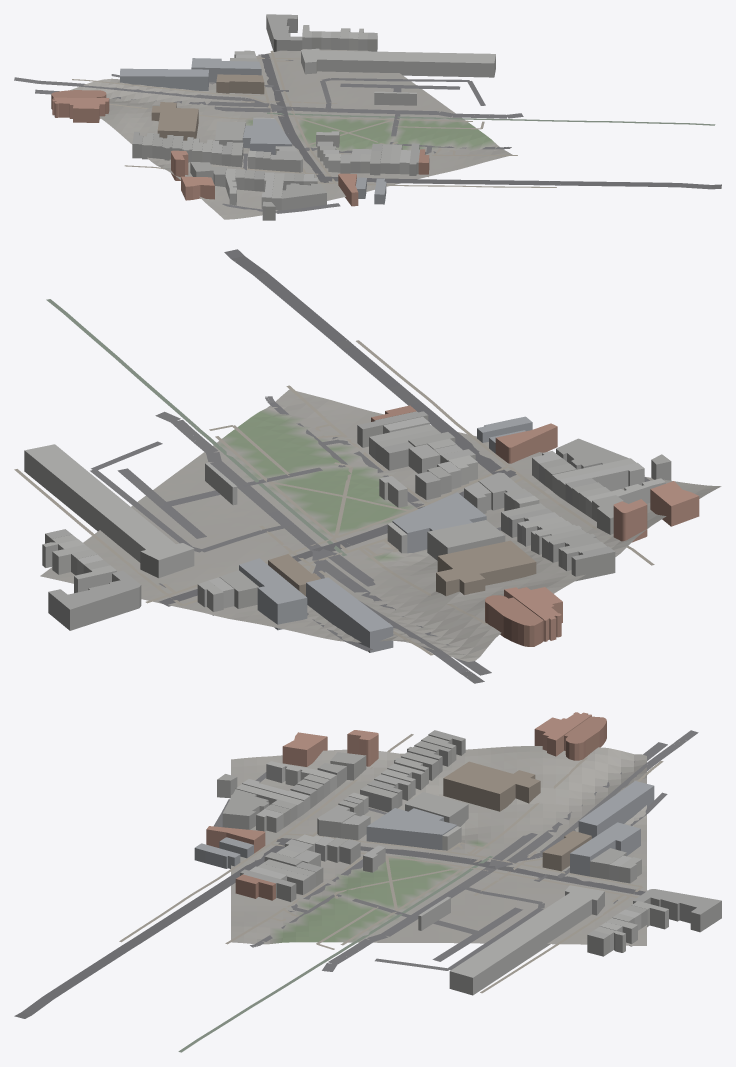
The model's file is tile_-4_-6.glb.
3 renders of one model, top to bottom at view 1: azimuth 30°, elevation 25°; view 2: azimuth 150°, elevation 25°; view 3: azimuth 270°, elevation 25°, orthographic. The views are drawn at different scales.
Visible parts, largest first — view 1: buildings, terrain, roads; view 2: buildings, terrain, roads; view 3: buildings, terrain, roads.
Boxes of the visible parts, <box> form: buildings: <box>51,14,495,220</box>; terrain: <box>70,49,512,219</box>; roads: <box>14,50,721,213</box>; buildings: <box>24,405,699,652</box>; terrain: <box>40,389,721,661</box>; roads: <box>14,249,654,683</box>; buildings: <box>194,712,721,995</box>; terrain: <box>231,746,646,945</box>; roads: <box>14,730,698,1052</box>.
Bounding box in the file's own units: 445 × 29.43 × 436.
